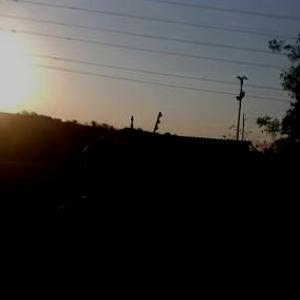follow: (34, 132, 154, 299)
